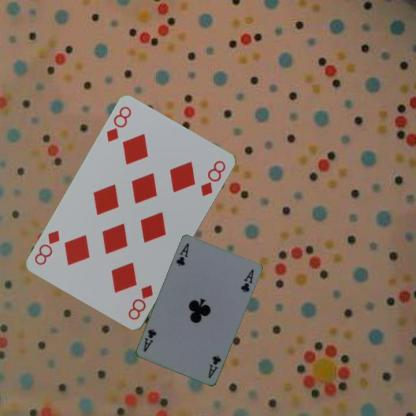8d: (125, 282, 155, 322), (103, 104, 133, 144)
Ac: (173, 240, 190, 268), (206, 353, 222, 380)
